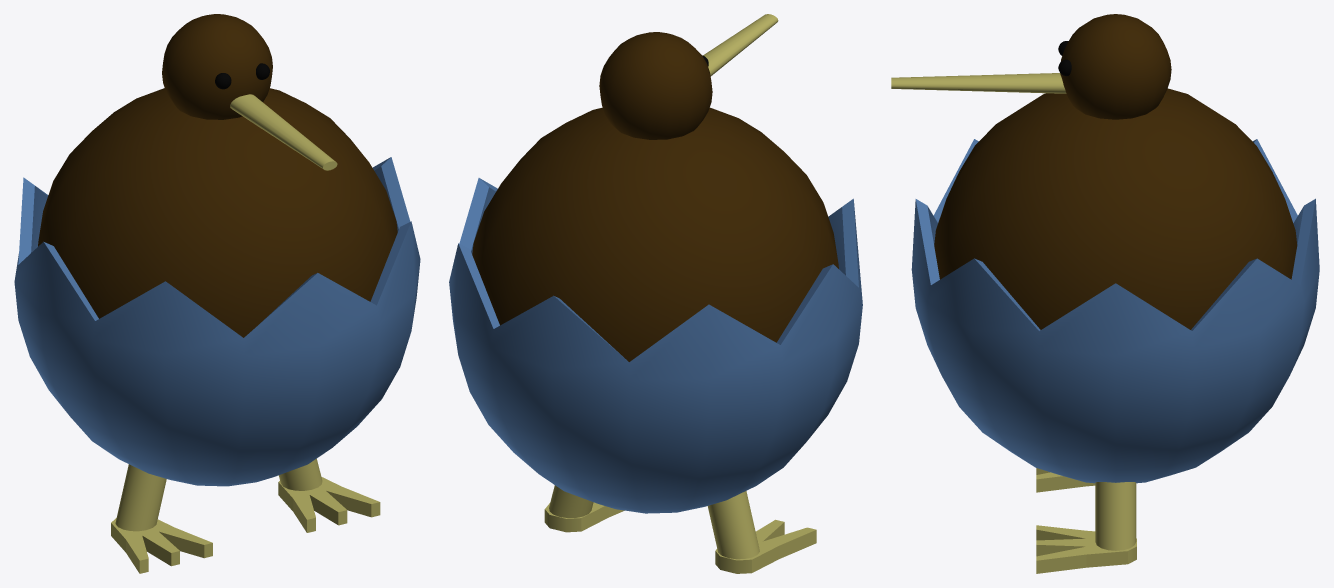
Rendered from tokiwi.fbx.
3 renders of one model, left to right at view 1: azimuth 30°, elevation 25°; view 2: azimuth 150°, elevation 25°; view 3: azimuth 270°, elevation 25°, orthographic. The views are drawn at different scales.
Parts seen in each view (by area): view 1: shell, birdBody, birdHead, rightFoot, leftFoot, rightThigh, beak, leftThigh; view 2: shell, birdBody, birdHead, rightThigh, rightFoot, beak, leftFoot, leftThigh; view 3: shell, birdBody, birdHead, leftFoot, beak, leftThigh, rightFoot.
Part boxes in pixels (x1=…): shell: x1=14, y1=157, x2=420, y2=486; birdBody: x1=38, y1=88, x2=397, y2=337; birdHead: x1=162, y1=14, x2=272, y2=119; rightFoot: x1=111, y1=518, x2=212, y2=573; leftFoot: x1=278, y1=477, x2=380, y2=532; rightThigh: x1=115, y1=464, x2=166, y2=531; beak: x1=230, y1=94, x2=337, y2=170; leftThigh: x1=279, y1=458, x2=322, y2=490; shell: x1=449, y1=178, x2=862, y2=513; birdBody: x1=472, y1=107, x2=838, y2=361; birdHead: x1=599, y1=32, x2=712, y2=139; rightThigh: x1=707, y1=491, x2=759, y2=559; rightFoot: x1=715, y1=519, x2=816, y2=573; beak: x1=703, y1=14, x2=778, y2=76; leftFoot: x1=544, y1=502, x2=624, y2=532; leftThigh: x1=549, y1=485, x2=593, y2=517; shell: x1=911, y1=139, x2=1319, y2=483; birdBody: x1=934, y1=88, x2=1297, y2=329; birdHead: x1=1060, y1=14, x2=1171, y2=119; leftFoot: x1=1036, y1=525, x2=1136, y2=573; beak: x1=891, y1=73, x2=1066, y2=93; leftThigh: x1=1095, y1=482, x2=1136, y2=550; rightFoot: x1=1036, y1=468, x2=1095, y2=492.
Size of the model in its own units: 2.79 by 3.74 by 2.93.
